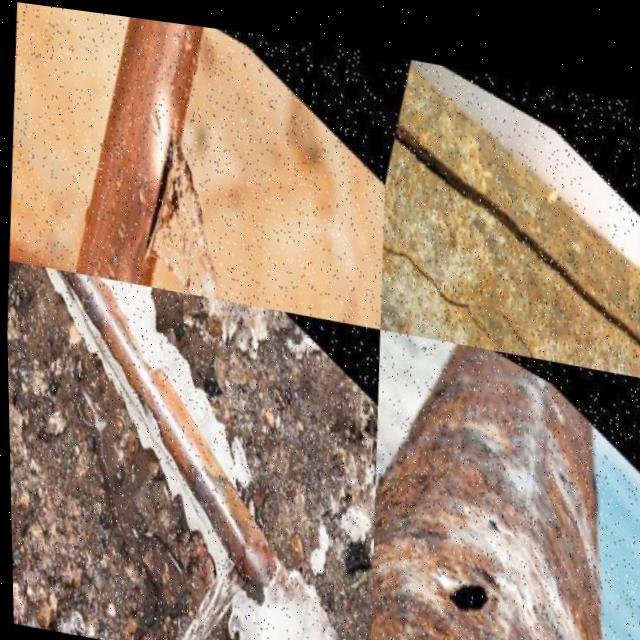crack: (375, 71, 640, 361), (377, 200, 518, 341), (487, 267, 640, 360)
hole: (434, 512, 496, 616), (547, 435, 571, 483), (483, 489, 505, 531), (519, 622, 565, 640)
rupture: (131, 85, 183, 255), (218, 520, 247, 576)
